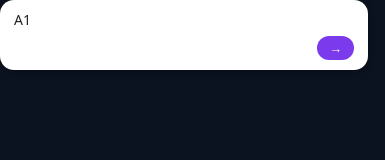
Test: Bubble › resets to the first line when lines change
The width and height of the screenshot is (385, 160).
Later steps or results of the test are not shown.
Click the button named "Next" at (336, 48), box [317,36,354,60]
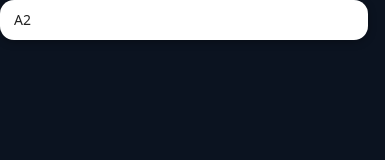
Check: the text "A2" is shown, box [14,10,31,29]
